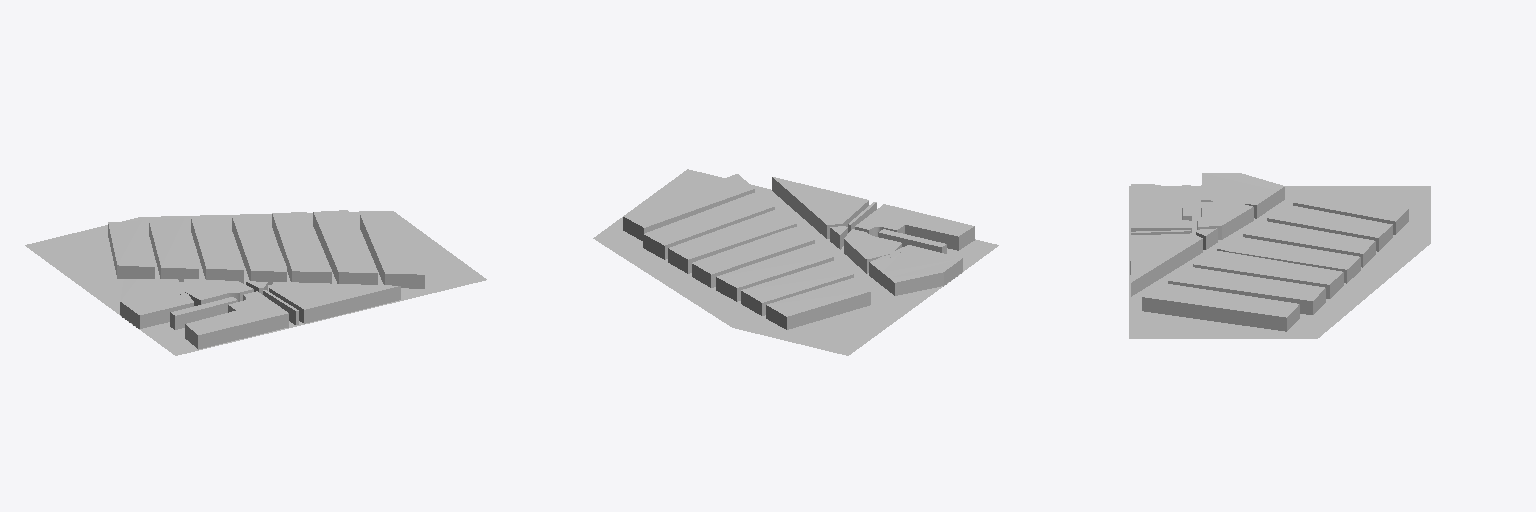
File: mapaRevolucion.obj
The picture shows the model from 3 angles: view 1: azimuth 30°, elevation 25°; view 2: azimuth 150°, elevation 25°; view 3: azimuth 270°, elevation 25°; orthographic projection.
Parts seen in each view (by area): view 1: Plane, Cube.006_Cube.007, Cube.010_Cube.011, Cube.005_Cube.006, Cube.001_Cube.002, Cube_Cube.001, Cube.012_Cube.013, Cube.002_Cube.003, Cube.003_Cube.004, Cube.004_Cube.005, Cube.011_Cube.012, Cube.008_Cube.009 (+1 smaller); view 2: Plane, Cube.012_Cube.013, Cube.005_Cube.006, Cube.011_Cube.012, Cube.001_Cube.002, Cube_Cube.001, Cube.006_Cube.007, Cube.010_Cube.011, Cube.002_Cube.003, Cube.003_Cube.004, Cube.004_Cube.005, Cube.008_Cube.009 (+1 smaller); view 3: Plane, Cube.005_Cube.006, Cube.001_Cube.002, Cube.006_Cube.007, Cube_Cube.001, Cube.002_Cube.003, Cube.003_Cube.004, Cube.012_Cube.013, Cube.004_Cube.005, Cube.011_Cube.012, Cube.010_Cube.011, Cube.008_Cube.009.
Part boxes in pixels (x1,y1,x2,y2): Plane: (25, 211, 486, 355); Cube.006_Cube.007: (269, 282, 400, 323); Cube.010_Cube.011: (185, 291, 288, 349); Cube.005_Cube.006: (360, 211, 424, 288); Cube.001_Cube.002: (313, 210, 377, 284); Cube_Cube.001: (272, 212, 331, 283); Cube.012_Cube.013: (120, 279, 193, 328); Cube.002_Cube.003: (232, 214, 286, 284); Cube.003_Cube.004: (191, 216, 243, 283); Cube.004_Cube.005: (149, 218, 198, 281); Cube.011_Cube.012: (108, 220, 154, 278); Cube.008_Cube.009: (183, 279, 253, 305); Plane: (593, 169, 998, 355); Cube.012_Cube.013: (869, 245, 962, 295); Cube.005_Cube.006: (623, 174, 754, 240); Cube.011_Cube.012: (766, 277, 870, 329); Cube.001_Cube.002: (643, 191, 774, 259); Cube_Cube.001: (668, 209, 796, 273); Cube.006_Cube.007: (772, 177, 868, 238); Cube.010_Cube.011: (855, 204, 974, 250); Cube.002_Cube.003: (692, 226, 814, 287); Cube.003_Cube.004: (716, 243, 833, 301); Cube.004_Cube.005: (741, 260, 853, 315); Cube.008_Cube.009: (844, 229, 901, 273); Plane: (1129, 186, 1430, 338); Cube.005_Cube.006: (1142, 283, 1299, 331); Cube.001_Cube.002: (1168, 267, 1325, 314); Cube.006_Cube.007: (1130, 233, 1202, 296); Cube_Cube.001: (1193, 250, 1343, 298); Cube.002_Cube.003: (1217, 236, 1360, 283); Cube.003_Cube.004: (1243, 221, 1375, 267); Cube.012_Cube.013: (1201, 173, 1284, 218); Cube.004_Cube.005: (1267, 205, 1392, 251); Cube.011_Cube.012: (1293, 190, 1408, 234); Cube.010_Cube.011: (1131, 184, 1191, 232); Cube.008_Cube.009: (1197, 201, 1253, 239).
Size of the model in its own units: 9.79 by 0.4653 by 8.23.